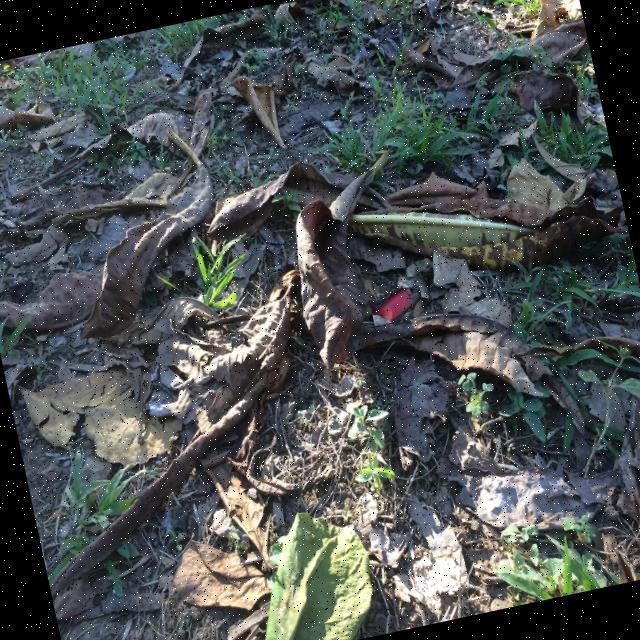Unlabeled litter: (373, 288, 421, 322)
